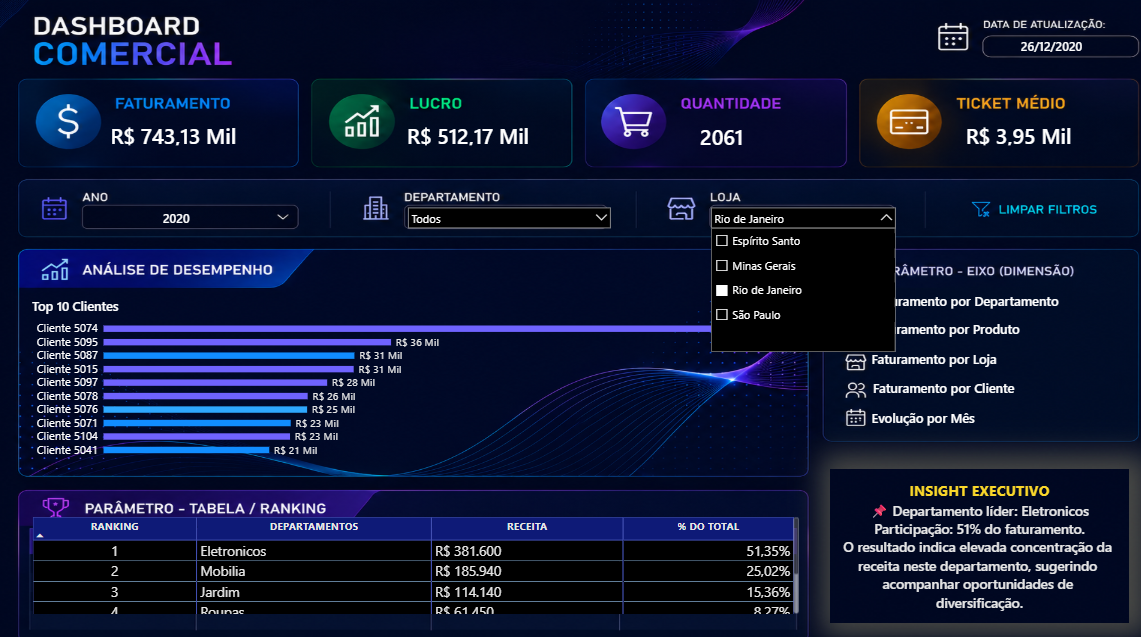

What the dashboard file says about the page in this screenshot:
{"tool":"powerbi","page":{"name":"Geral","canvas":[1920,1080],"ordinal":0},"visuals":[{"type":"slicer","fields":{"Values":["dDepartamento.Departamento"]},"box":[685,342.5,347.5,47.5],"z":0},{"type":"slicer","fields":{"Values":["dLojas.Cidade"]},"box":[1190,342.5,317.5,47.5],"z":1000},{"type":"card","fields":{"Values":["Medidas.Faturamento"]},"box":[172.5,200,252.5,60],"z":2000},{"type":"card","fields":{"Values":["Medidas.Lucro"]},"box":[655,200,270,60],"z":3000},{"type":"card","fields":{"Values":["Medidas.Quantidade Vendida"]},"box":[1104.7,200.3,215.5,60.7],"z":4000},{"type":"card","fields":{"Values":["Medidas.Ticket Médio"]},"box":[1600,200,215,60],"z":5000},{"type":"card","fields":{"Values":["Medidas.Última Atualização"]},"box":[1632.5,50,260,65],"z":6000},{"type":"clusteredColumnChart","title":"Receita por Departamento","fields":{"Category":["dDepartamento.Departamento"],"Y":["Medidas.Faturamento"]},"box":[47.5,482.5,1290,300],"z":7000},{"type":"textbox","title":"Faturamento por Departamento","box":[1465.1,488.4,363.4,50.6],"z":12000},{"type":"textbox","title":"Faturamento por Produto","box":[1462.2,536.1,363.4,50.6],"z":13000},{"type":"textbox","title":"Faturamento por Loja","box":[1462.2,583.8,363.4,50.6],"z":14000},{"type":"textbox","title":"Faturamento por Cliente","box":[1465.1,631.4,363.4,50.6],"z":15000},{"type":"textbox","title":"Evolução por Mês","box":[1462.5,682.5,362.5,52.5],"z":16000},{"type":"actionButton","box":[1615,327.5,45,40],"z":17000},{"type":"actionButton","title":"Botão Loja","box":[1391.1,578.6,433.9,51],"z":18000},{"type":"actionButton","title":"Botão Cliente","box":[1391.1,629.6,387.1,38.3],"z":19000},{"type":"actionButton","title":"Botão Evol","box":[1392.5,667.5,435,52.5],"z":20000},{"type":"actionButton","title":"Botão Dep","box":[1392.5,487.5,432.5,40],"z":21000},{"type":"textbox","title":"2020","box":[130,352.5,347.5,50],"z":22000},{"type":"actionButton","title":"Botão Produto","box":[1387.5,532.5,435,40],"z":23000},{"type":"card","fields":{"Values":["Medidas.Insight Executivo"]},"box":[1392.5,782.5,500,257.5],"z":24000},{"type":"textbox","title":"INSIGHT EXECUTIVO","box":[1392.5,802.5,500,70],"z":25000},{"type":"tableEx","fields":{"Values":["Medidas.Ranking Departamento","dDepartamento.Departamento","Medidas.Faturamento","Medidas.% Total Departamento"]},"box":[47.5,850,1310,190],"z":26000}]}

Visuals, with their boxes in screenshot pixels (x1, y1, x2, y2), scaled from the page's 1920x1080 canvas onto the 1141x637 screenshot:
slicer - dDepartamento.Departamento: 407:202:614:230
slicer - dLojas.Cidade: 707:202:896:230
card - Medidas.Faturamento: 103:118:253:153
card - Medidas.Lucro: 389:118:550:153
card - Medidas.Quantidade Vendida: 656:118:785:154
card - Medidas.Ticket Médio: 951:118:1079:153
card - Medidas.Última Atualização: 970:29:1125:68
"Receita por Departamento" clusteredColumnChart: 28:285:795:462
"Faturamento por Departamento" textbox: 871:288:1087:318
"Faturamento por Produto" textbox: 869:316:1085:346
"Faturamento por Loja" textbox: 869:344:1085:374
"Faturamento por Cliente" textbox: 871:372:1087:402
"Evolução por Mês" textbox: 869:403:1085:434
actionButton: 960:193:986:217
"Botão Loja" actionButton: 827:341:1085:371
"Botão Cliente" actionButton: 827:371:1057:394
"Botão Evol" actionButton: 828:394:1086:425
"Botão Dep" actionButton: 828:288:1085:311
"2020" textbox: 77:208:284:237
"Botão Produto" actionButton: 825:314:1083:338
card - Medidas.Insight Executivo: 828:462:1125:613
"INSIGHT EXECUTIVO" textbox: 828:473:1125:515
tableEx - Medidas.Ranking Departamento x dDepartamento.Departamento: 28:501:807:613
